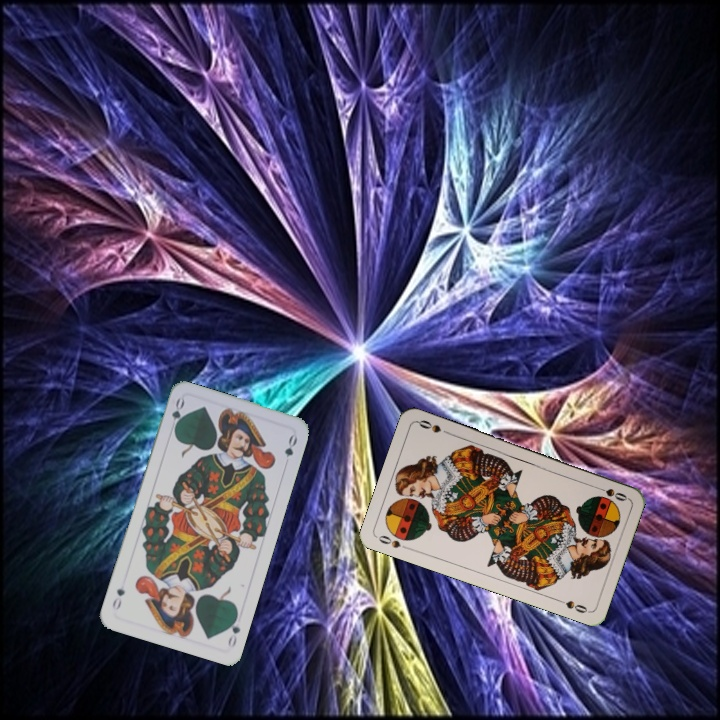GO: (166, 394, 187, 435), (224, 610, 243, 650)
SO: (591, 482, 630, 504), (374, 531, 413, 552)
